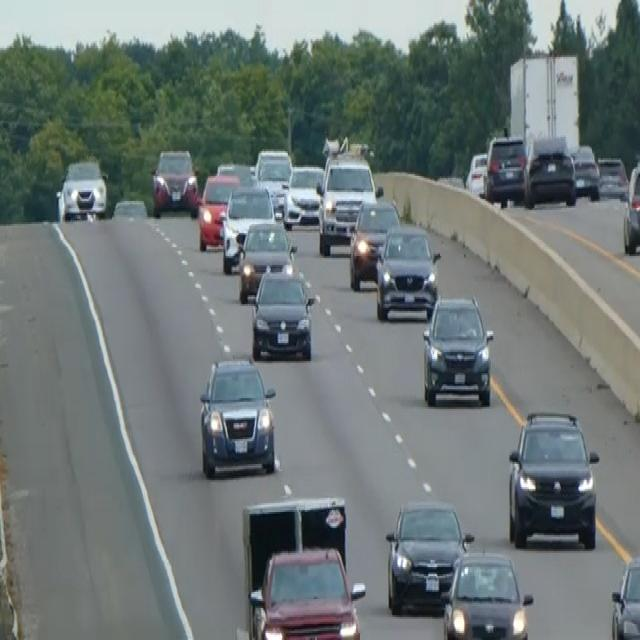car: (506, 407, 600, 549), (384, 496, 473, 615), (198, 354, 277, 478), (421, 292, 494, 407), (440, 548, 533, 638), (374, 220, 440, 320), (316, 150, 378, 254), (250, 265, 315, 361), (219, 181, 276, 272), (236, 217, 297, 302), (348, 196, 400, 290), (523, 132, 576, 208), (196, 170, 240, 250), (150, 146, 199, 217), (56, 156, 108, 222), (484, 132, 526, 204), (282, 162, 325, 229), (253, 146, 292, 213), (609, 553, 639, 638), (621, 160, 639, 254), (571, 142, 600, 199), (595, 153, 628, 199), (464, 150, 488, 198), (216, 160, 254, 187), (111, 196, 148, 218)
truck: (240, 492, 348, 638), (506, 50, 582, 153)
